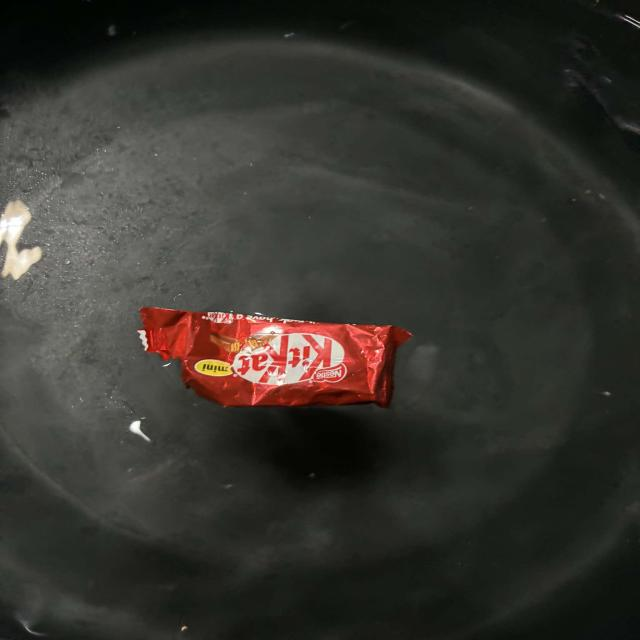Plastic Wrapper: (140, 308, 411, 407)
